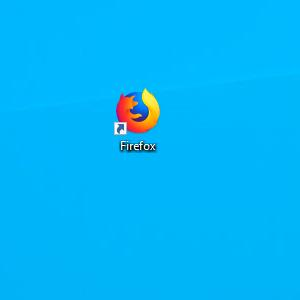firefox: (113, 87, 161, 136)
